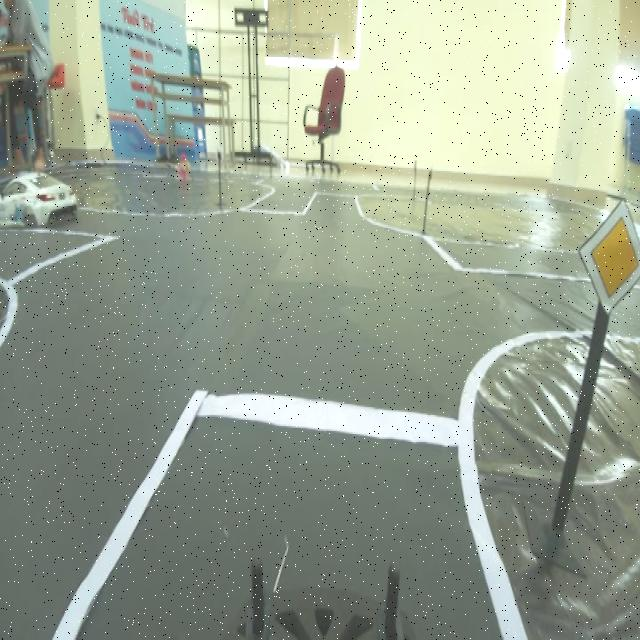priority: (578, 193, 640, 308)
